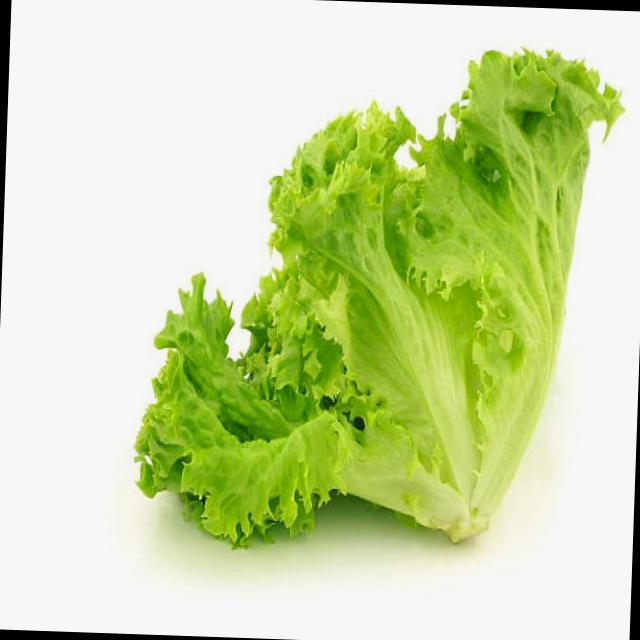Lettuce-Ready-to-Harvest: (136, 51, 623, 545)
